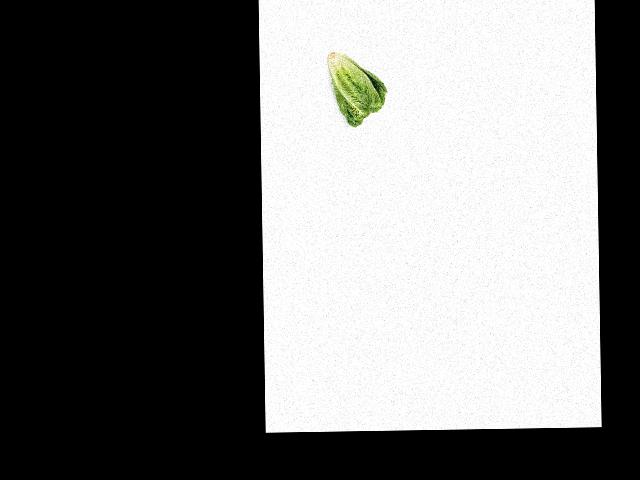lettuce: (325, 46, 386, 127)
